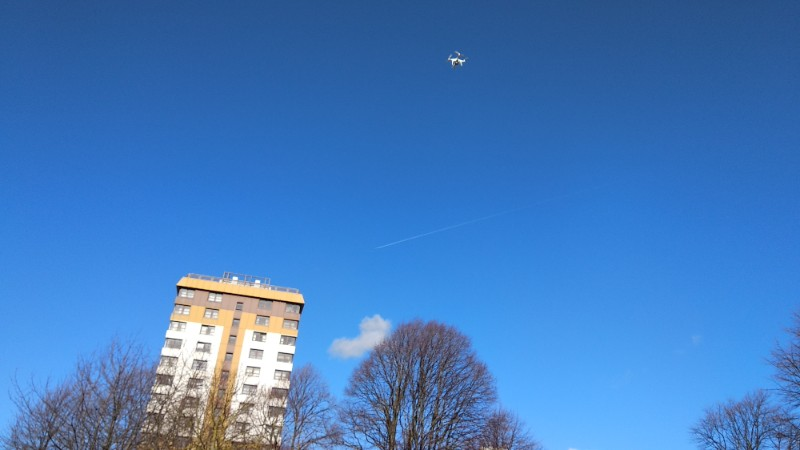drone: (445, 49, 467, 70)
